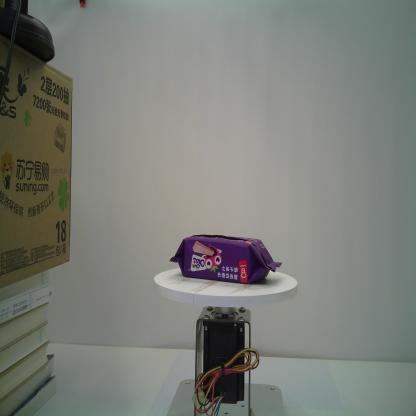Dessert: (170, 234, 282, 284)
